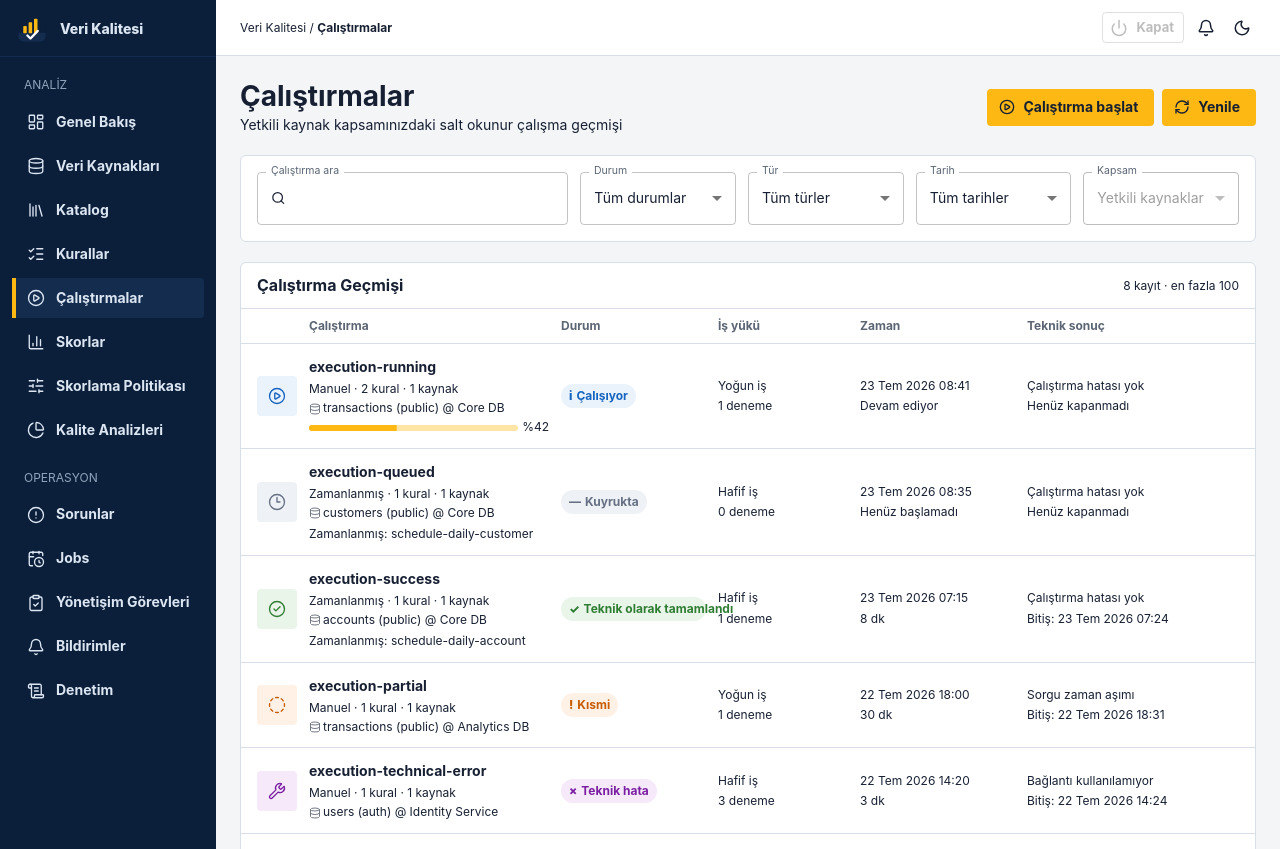
Test: Çalıştırmalar ekranı › kural seçilmeden kaynak alanı kapalıdır ve başlatma yapılamaz
Click the button "Çalıştırma başlat": (1071, 107) [988,89,1154,126]
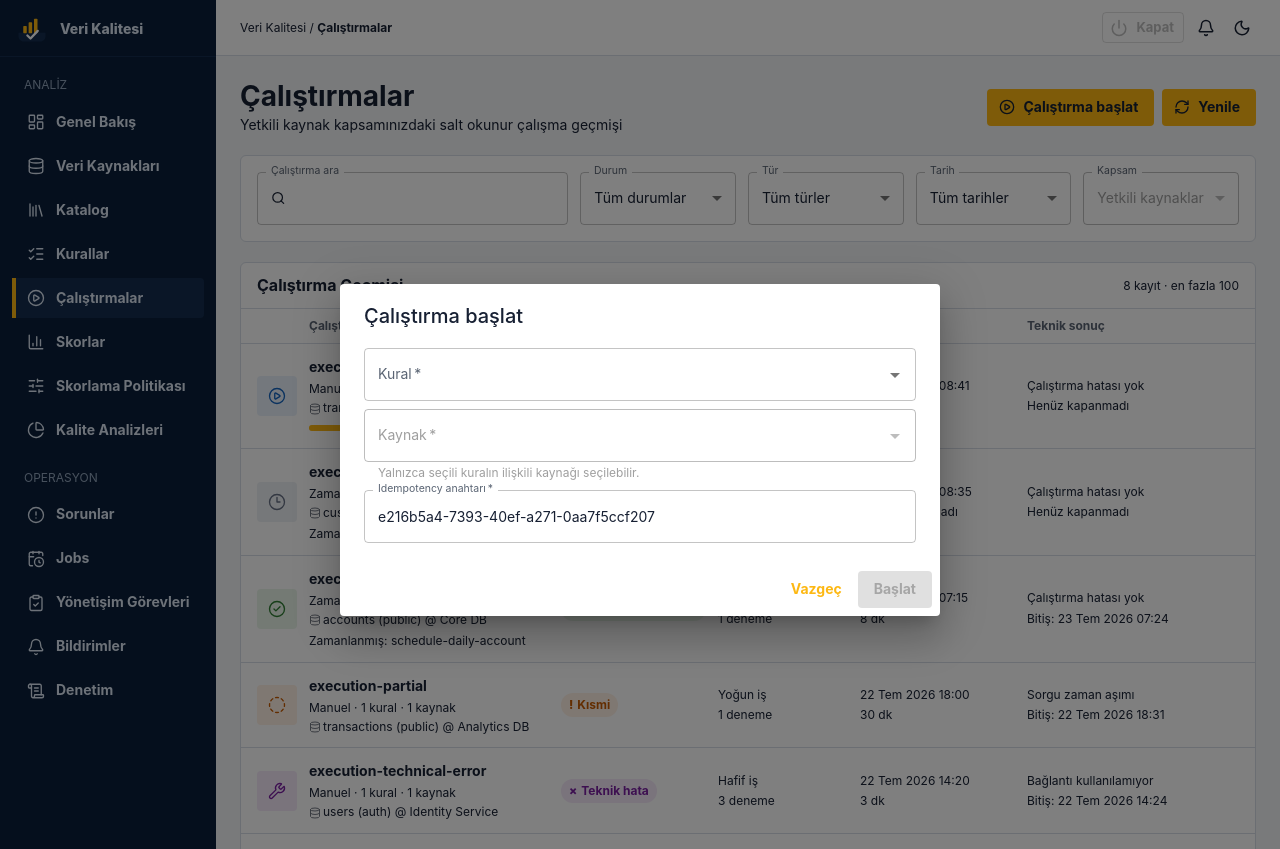
expect the dropdown labelled "Kaynak *" is disabled: met, box [373,418,877,453]
expect the button "Başlat" is disabled: met, box [858,571,932,608]
expect the field labelled "Idempotency anahtarı *" is shown: met, box [364,490,916,543]
